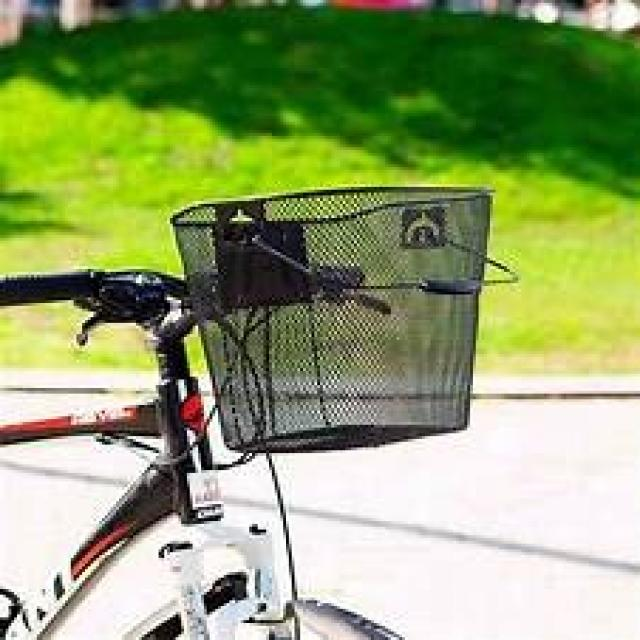basket: (166, 184, 499, 457)
